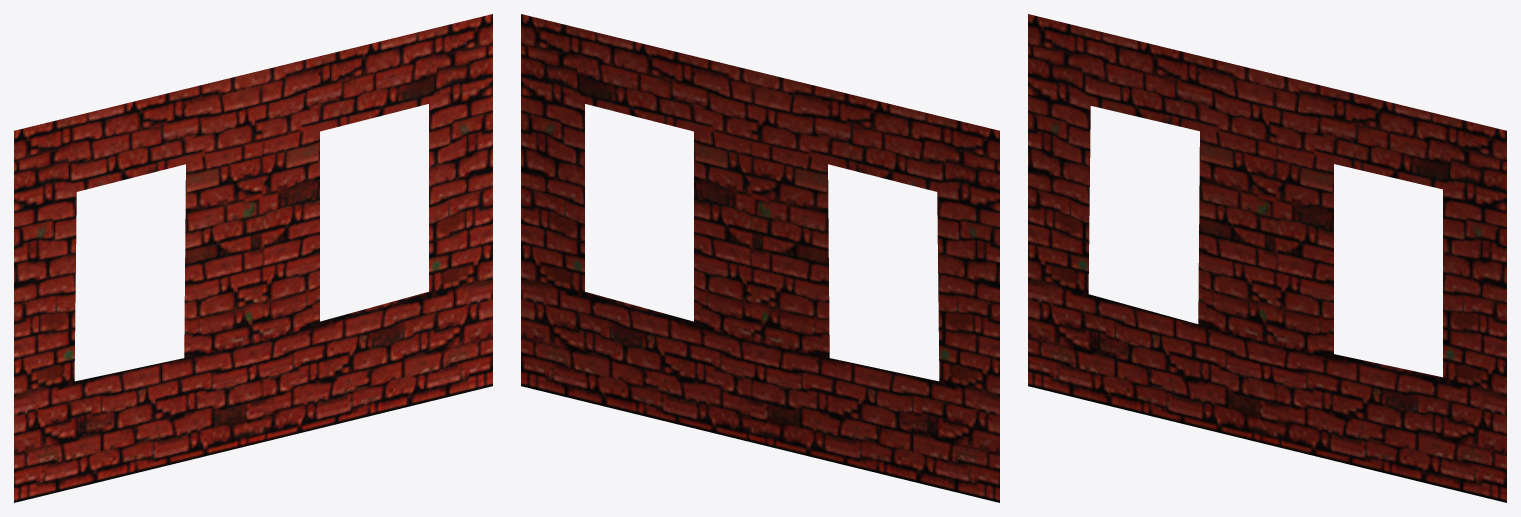
3 renders of one model, left to right at view 1: azimuth 30°, elevation 25°; view 2: azimuth 150°, elevation 25°; view 3: azimuth 330°, elevation 25°, orthographic.
Visible parts, largest first — view 1: pPlaneShape2; view 2: pPlaneShape2; view 3: pPlaneShape2.
Part boxes in pixels (bbox=[...]): pPlaneShape2: bbox=[14, 14, 492, 502]; pPlaneShape2: bbox=[521, 14, 999, 502]; pPlaneShape2: bbox=[1028, 14, 1506, 502].
Bounding box in the file's own units: 0.4693 × 0.3486 × 1.24e-07.
Materials: 1 (1 with a texture image).
